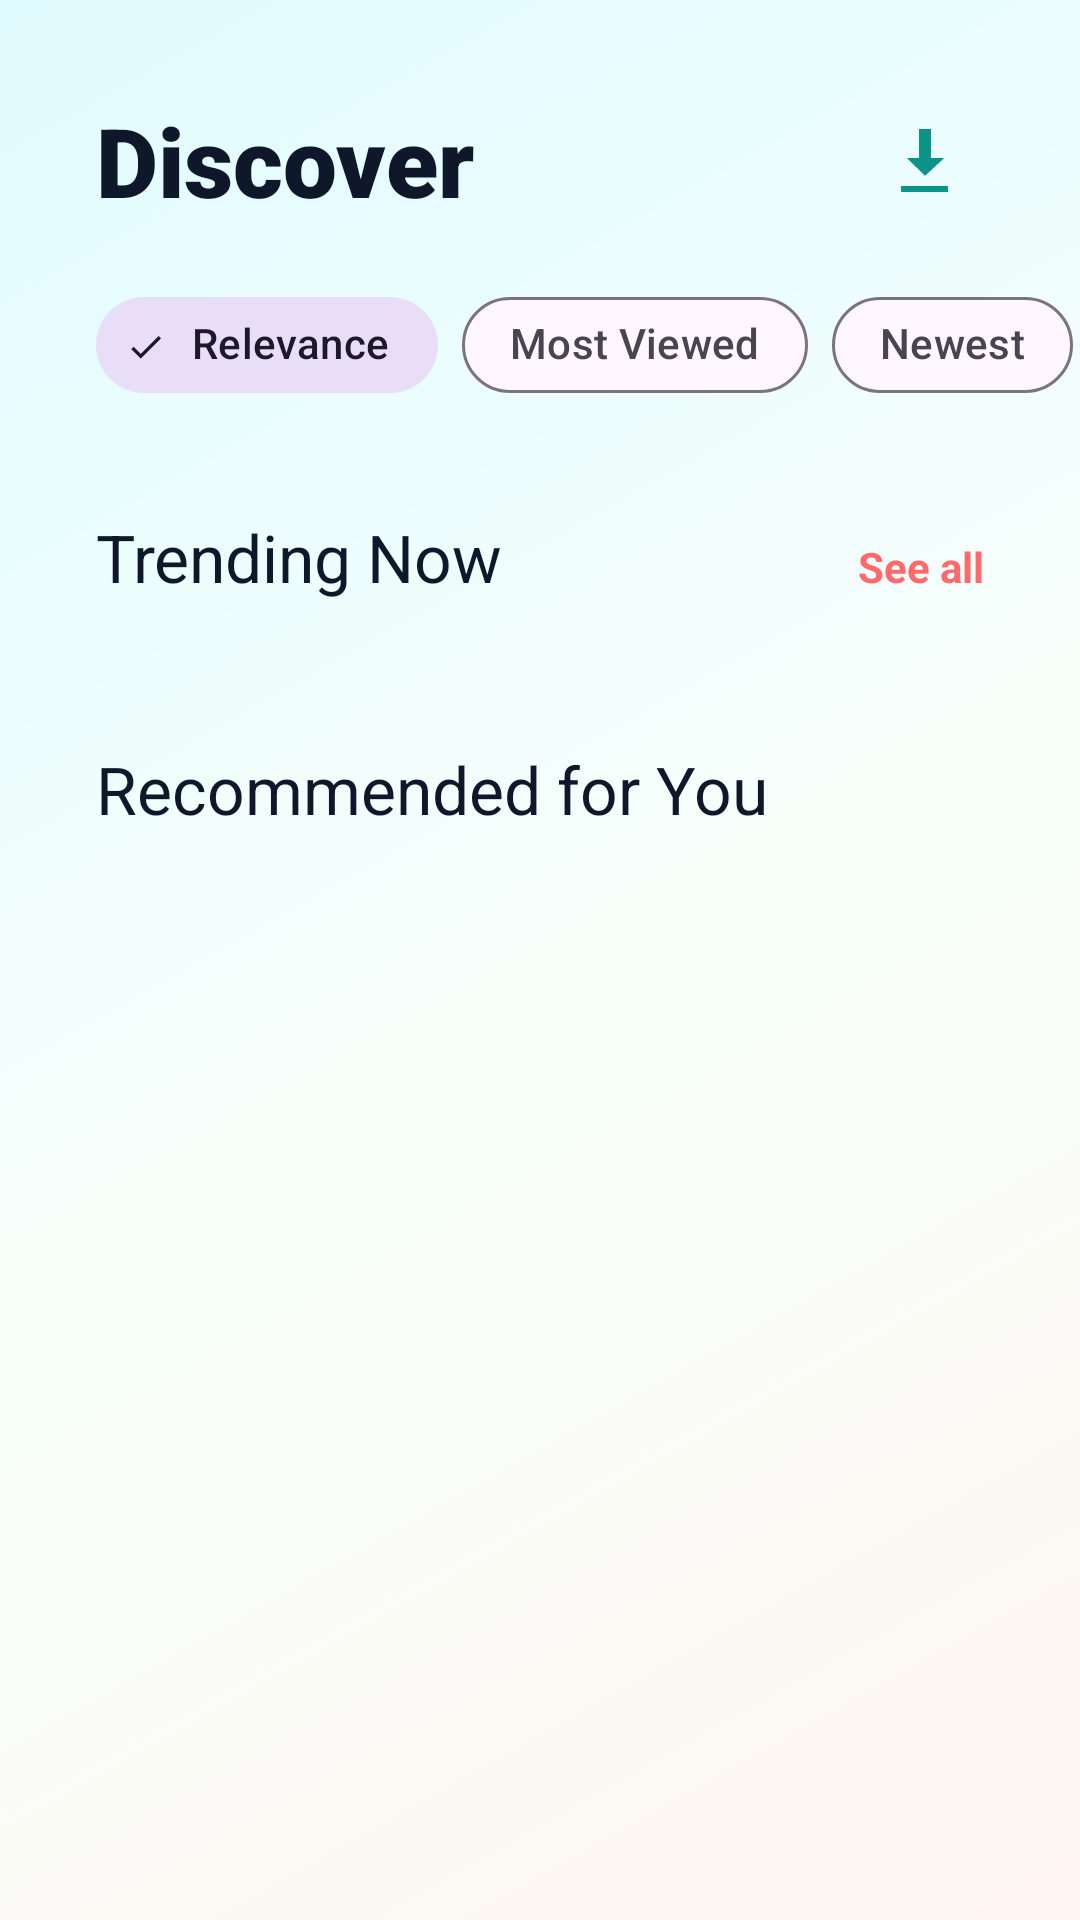

Named icons in this screenshot (1080*1920) and their bounding boxes, (left=x1, top=y1, right=x2, bottom=y2):
Downloaded Books: (left=901, top=129, right=948, bottom=192)
